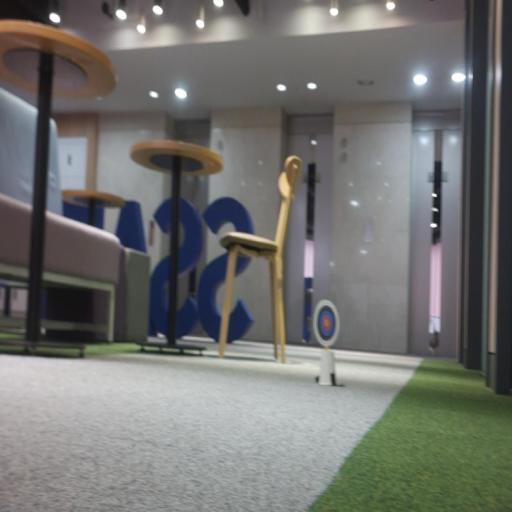target: (313, 300, 339, 348)
